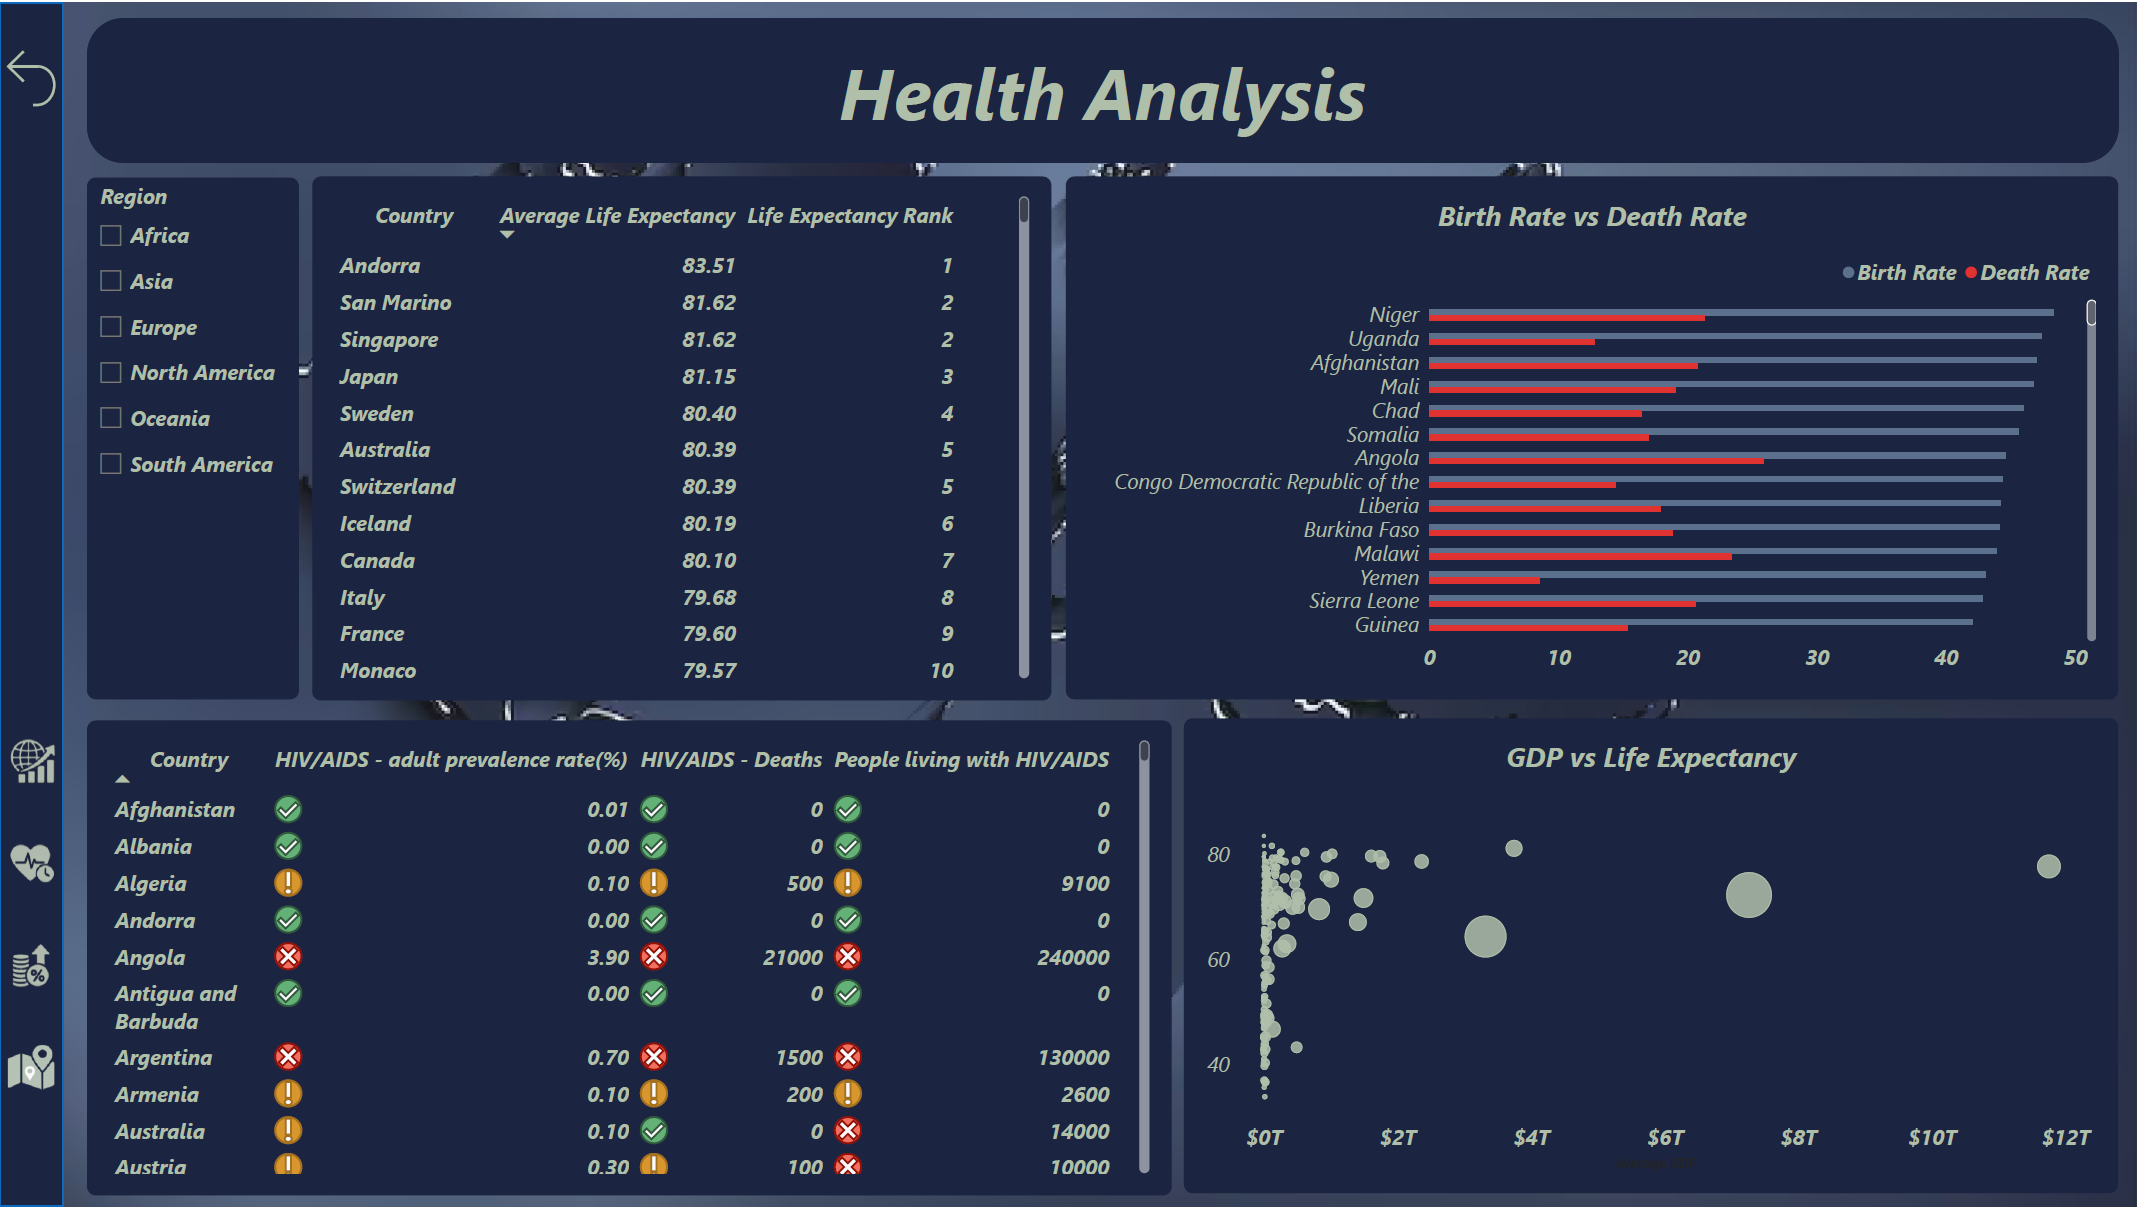

Layout of this report page (visuals, bound fields, positions):
{"tool":"powerbi","page":{"name":"Health Analysis ","canvas":[1920,1080],"ordinal":1},"visuals":[{"type":"shape","box":[0,0,58,1080.2],"z":0,"group":"g1"},{"type":"shape","box":[79.1,14.2,1822.5,129.7],"z":0},{"type":"pivotTable","fields":{"Rows":["Country Data Comparison.Country"],"Values":["Country Measures.Average Life Expectancy","Country Measures.Life Expectancy Rank"]},"box":[280.9,155.9,663.4,470],"z":1000},{"type":"actionButton","box":[1.8,723.2,58,87],"z":1000,"group":"g1"},{"type":"clusteredBarChart","title":"Birth Rate vs Death Rate","fields":{"Category":["Country Data Comparison.Country"],"Y":["Sum(Country Data Comparison.Birth rate(births/1000 population))","Sum(Country Data Comparison.Death rate(deaths/1000 population))"]},"box":[957,155.9,944.3,469.4],"z":2000},{"type":"actionButton","box":[0,814.4,58,87],"z":2000,"group":"g1"},{"type":"actionButton","box":[0,630.7,58,87],"z":3000,"group":"g1"},{"type":"pivotTable","fields":{"Rows":["Country Data Comparison.Country"],"Values":["Avg(Country Data Comparison.HIV/AIDS - adult prevalence rate(%))","Sum(Country Data Comparison.HIV/AIDS - deaths)","Sum(Country Data Comparison.HIV/AIDS - people living with HIV/AIDS)"]},"box":[79.1,643.9,973,425.6],"z":3000},{"type":"slicer","fields":{"Values":["Country Data Comparison.Continent"]},"box":[79.1,156.6,189.8,468.3],"z":4000},{"type":"actionButton","box":[0,906.2,58,87],"z":4000,"group":"g1"},{"type":"scatterChart","title":"GDP vs Life Expectancy","fields":{"Category":["Country Data Comparison.Country"],"Size":["Country Measures.Total Population"],"X":["Country Measures.Average GDP"],"Y":["Country Measures.Average Life Expectancy"]},"box":[1063.1,642.3,838.5,425.6],"z":5000},{"type":"group","id":"g1","title":"Group 1","box":[0,0,59.8,1080.2],"z":5001},{"type":"actionButton","box":[0,14.2,58,105.1],"z":5002}]}

Visuals, with their boxes on the page's 1920x1080 design canvas (x1, y1, x2, y2). These are canvas units, not pixel positions in the 2137x1210 screenshot, which may show the page scaled, cropped or inside an application window:
shape: <box>0,0,58,1080</box>
shape: <box>79,14,1902,144</box>
pivotTable - Country Data Comparison.Country x Country Measures.Average Life Expectancy: <box>281,156,944,626</box>
actionButton: <box>2,723,60,810</box>
"Birth Rate vs Death Rate" clusteredBarChart: <box>957,156,1901,625</box>
actionButton: <box>0,814,58,901</box>
actionButton: <box>0,631,58,718</box>
pivotTable - Country Data Comparison.Country x Avg(Country Data Comparison.HIV/AIDS - adult prevalence rate(%)): <box>79,644,1052,1070</box>
slicer - Country Data Comparison.Continent: <box>79,157,269,625</box>
actionButton: <box>0,906,58,993</box>
"GDP vs Life Expectancy" scatterChart: <box>1063,642,1902,1068</box>
"Group 1" group: <box>0,0,60,1080</box>
actionButton: <box>0,14,58,119</box>
